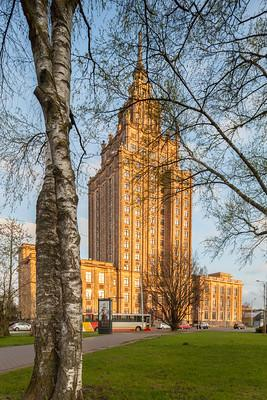building: (84, 60, 198, 328)
